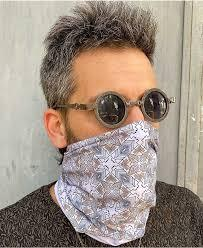scarf-kerchief: (55, 118, 165, 247)
sunglasses: (87, 85, 174, 129)
